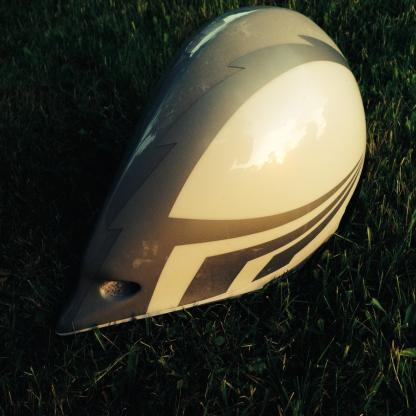Helmet: (63, 13, 393, 356)
